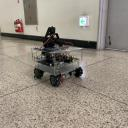cart: (30, 47, 84, 87)
